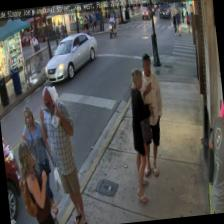person: (36, 82, 88, 224), (122, 68, 162, 204), (19, 103, 60, 224), (131, 52, 169, 176), (16, 137, 56, 224)
